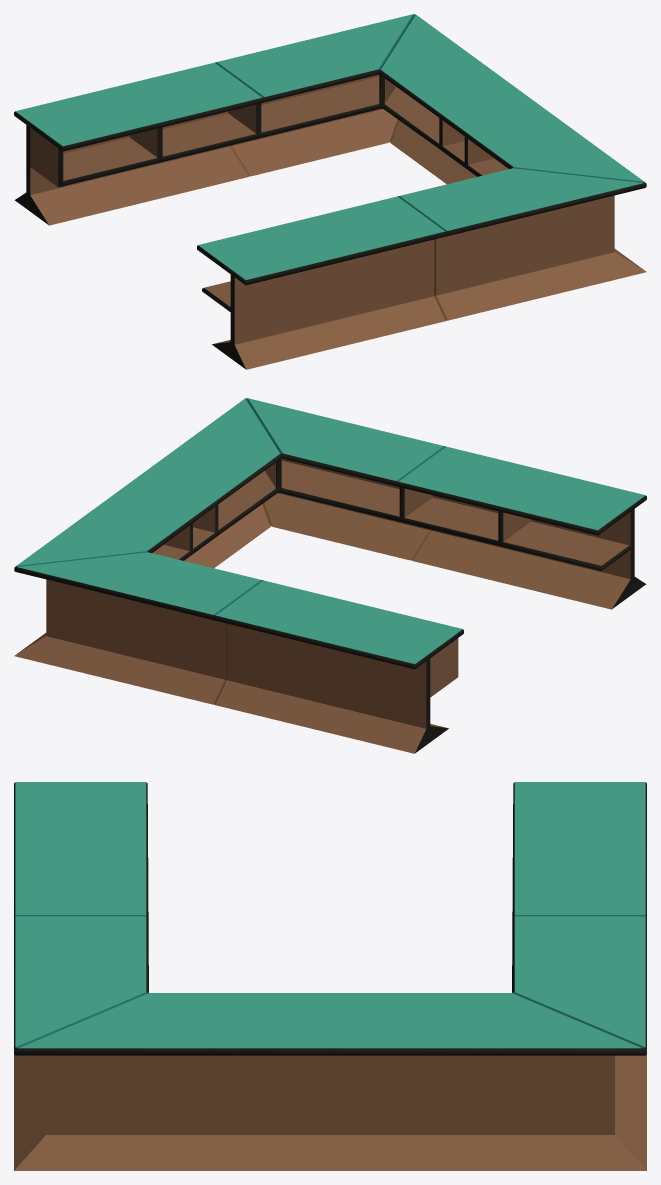
The model's file is OT_092_green_counter_var1.glb.
3 views of the same model, one above another, from view 1: azimuth 30°, elevation 25°; view 2: azimuth 150°, elevation 25°; view 3: azimuth 270°, elevation 25° (orthographic). The views are drawn at different scales.
Parts seen in each view (by area): view 1: counter; view 2: counter; view 3: counter.
Part boxes in pixels (x1,y1,x2,y2): counter: (14, 14, 646, 369); counter: (14, 398, 646, 753); counter: (14, 782, 646, 1170).
Size of the model in its own units: 6.01 by 1.27 by 6.
